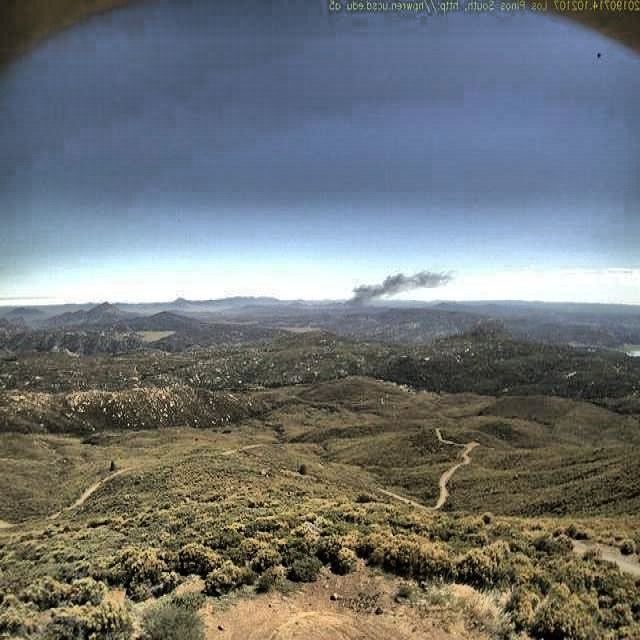smoke: (328, 267, 453, 324)
